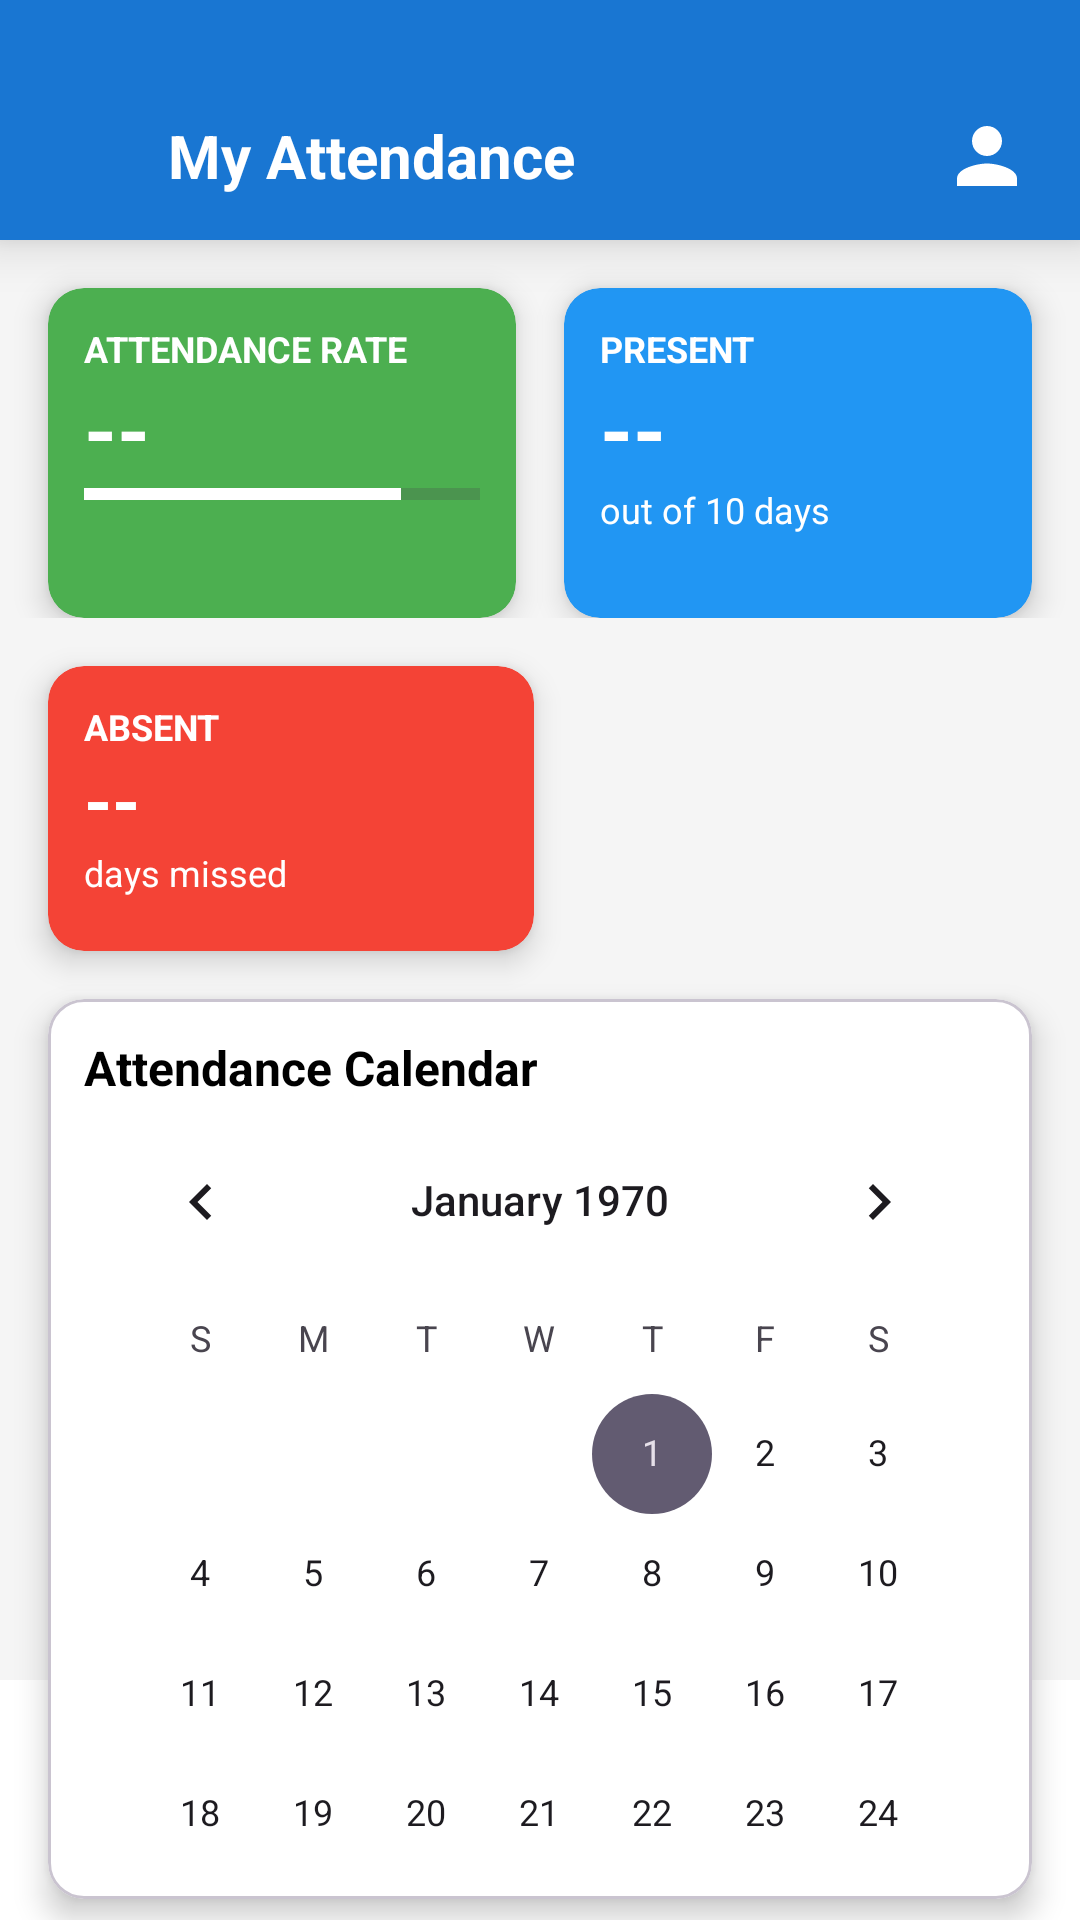

Locate icon controls on the screen. Image size 1080px×1920px, boxes as (x1, y1, x2, y2).
person: (957, 126, 1017, 186)
